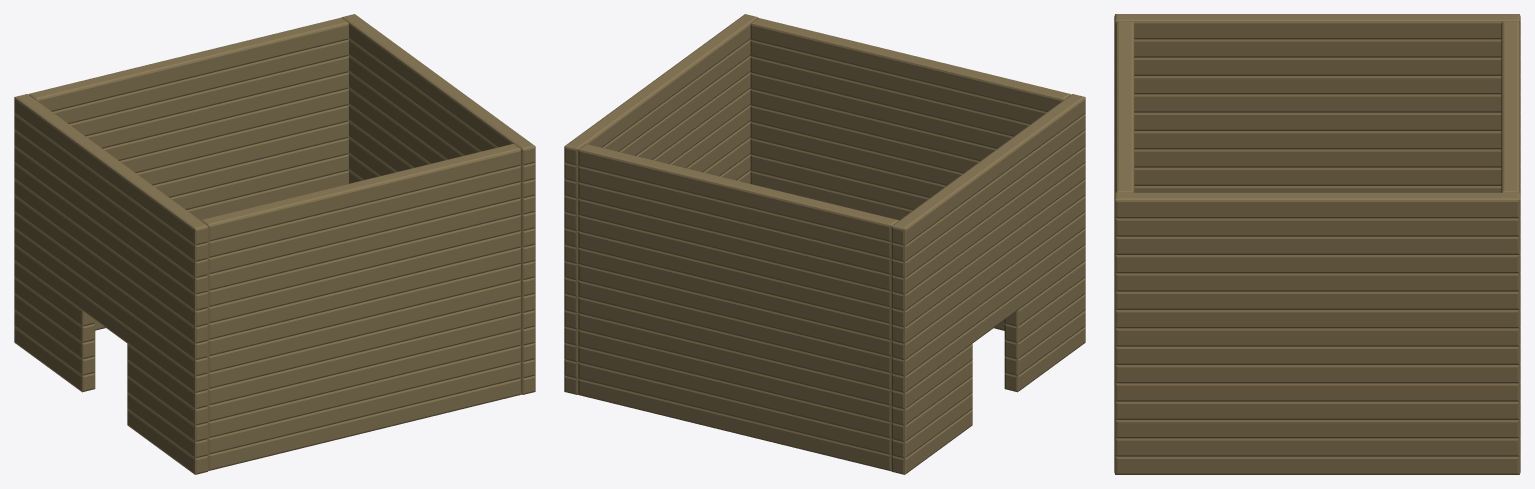
File: Maison_1.fbx
3 views of the same model, side by side, from view 1: azimuth 30°, elevation 25°; view 2: azimuth 150°, elevation 25°; view 3: azimuth 270°, elevation 25° (orthographic). The views are drawn at different scales.
Parts seen in each view (by area): view 1: pCube3; view 2: pCube3; view 3: pCube3.
Boxes of the visible parts, box(x1,y1,x2,y2) form: pCube3: box(14, 14, 535, 474); pCube3: box(564, 14, 1085, 474); pCube3: box(1114, 14, 1520, 474).
Bounding box in the file's own units: 21.84 × 15.08 × 20.08.
